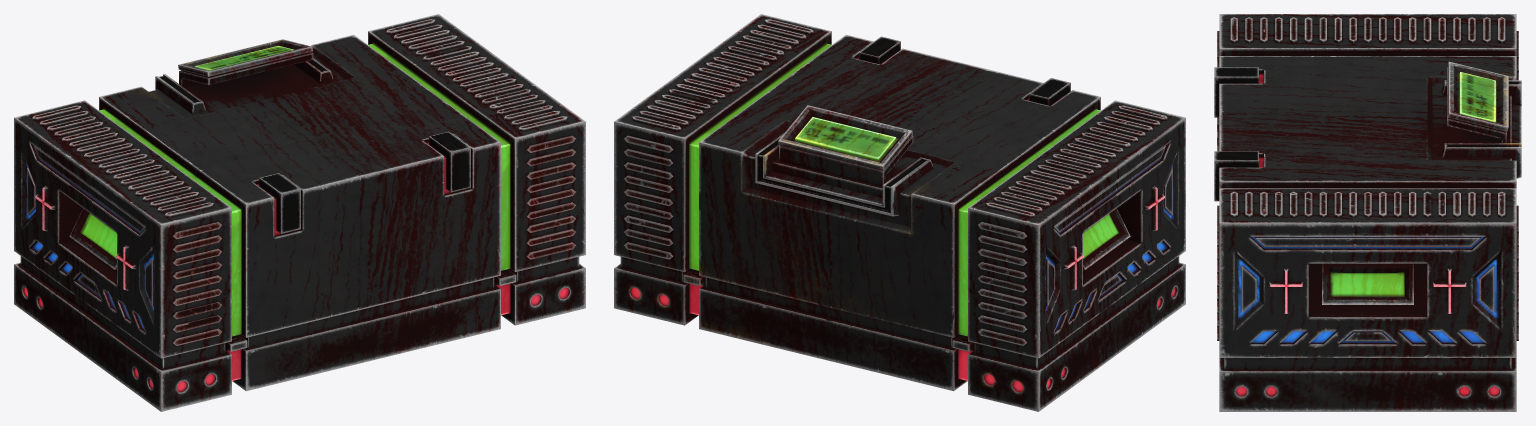
The model's file is sci-fi_box_01.glb.
3 views of the same model, side by side, from view 1: azimuth 30°, elevation 25°; view 2: azimuth 150°, elevation 25°; view 3: azimuth 270°, elevation 25° (orthographic).
Parts seen in each view (by area): view 1: Object_2, Object_3; view 2: Object_3, Object_2; view 3: Object_2, Object_3.
Part boxes in pixels (left/top/right/bottom): Object_2: left=14, top=19, right=585, bottom=411; Object_3: left=14, top=14, right=585, bottom=391; Object_3: left=614, top=14, right=1185, bottom=390; Object_2: left=614, top=19, right=1185, bottom=411; Object_2: left=1217, top=17, right=1521, bottom=411; Object_3: left=1214, top=14, right=1521, bottom=344.
Bounding box in the file's own units: 10.2 × 4.9 × 6.2.
Materials: 1 (1 with a texture image).
